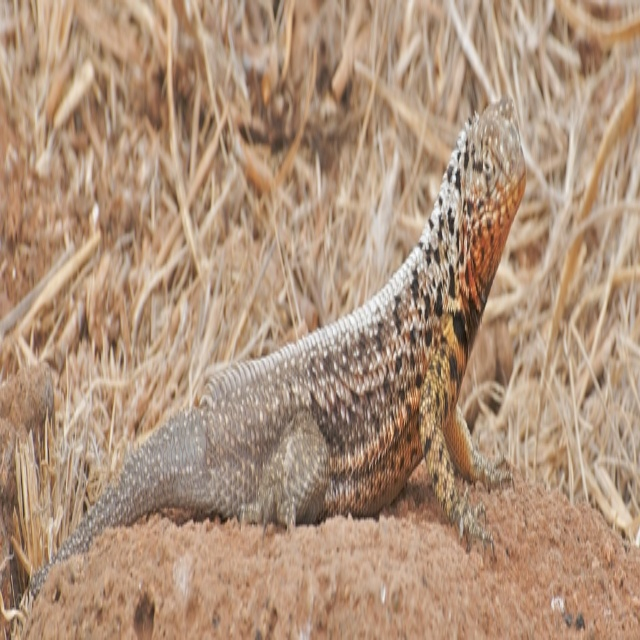Lizard: (26, 129, 528, 591)
